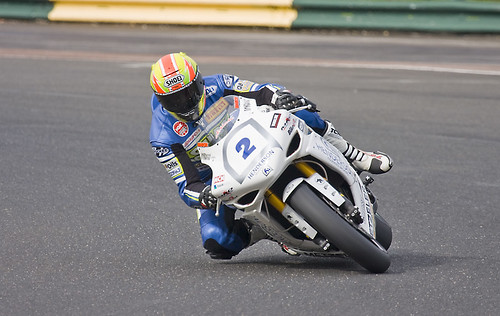helmet: (147, 47, 207, 123)
